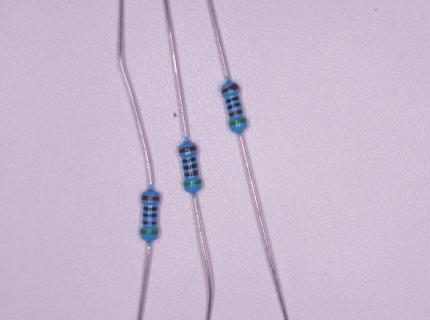Black band: (227, 103, 241, 110), (226, 96, 239, 103), (182, 157, 196, 163), (184, 163, 197, 169), (143, 207, 157, 211), (143, 213, 157, 217)
Brown band: (222, 83, 239, 94), (228, 109, 243, 117), (179, 146, 196, 153), (184, 170, 199, 177), (142, 195, 159, 201), (143, 221, 157, 224)
Green band: (229, 118, 247, 127), (184, 179, 202, 187), (140, 229, 159, 235)
